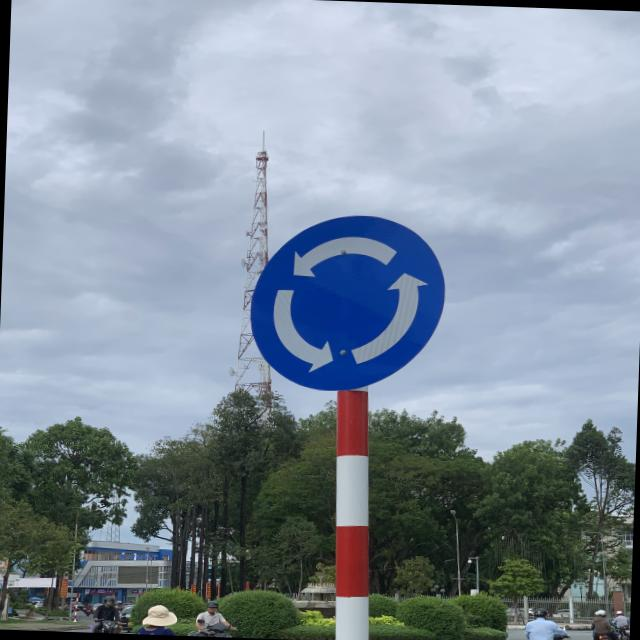Xe_Bus: (244, 210, 451, 394)
